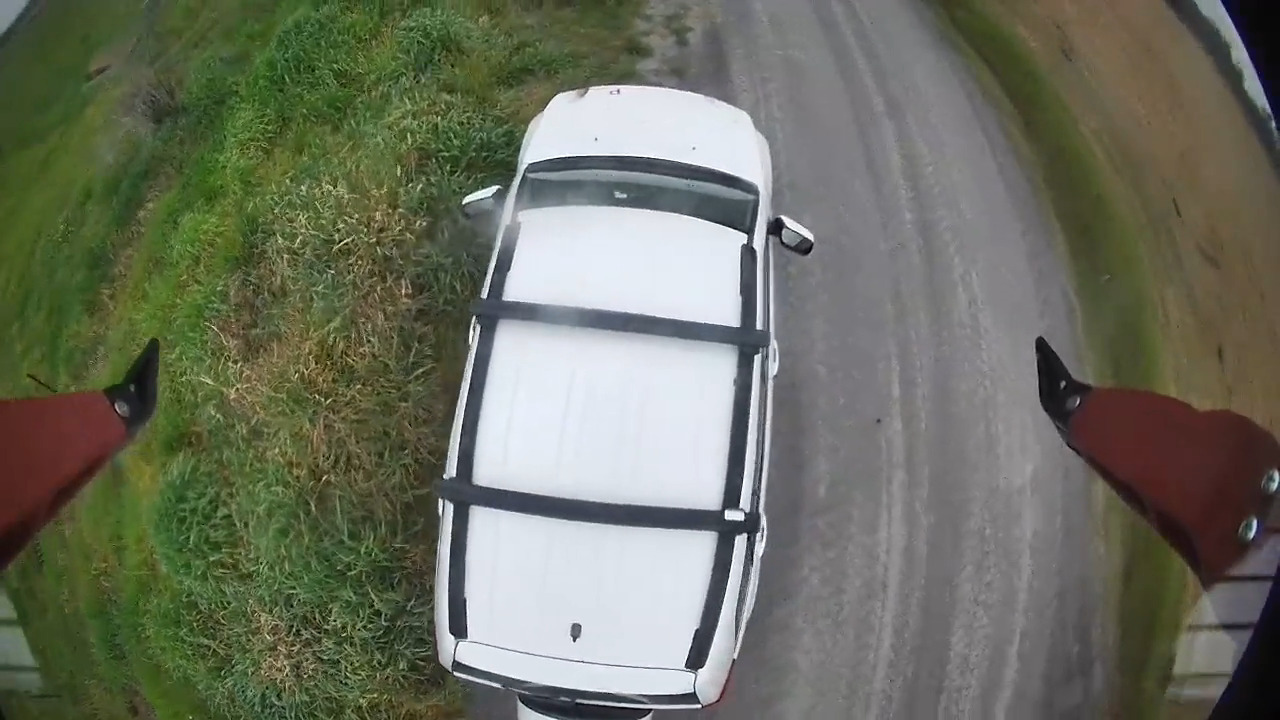Car: (434, 85, 814, 719)
